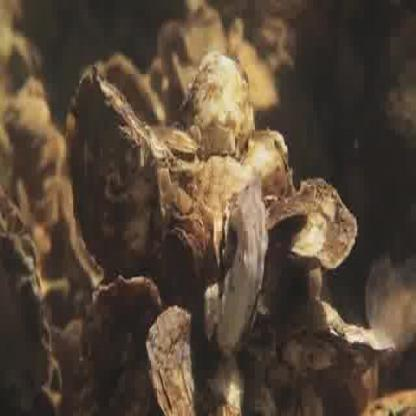Oyster- Indeterminate: (215, 180, 267, 355), (333, 321, 396, 360), (167, 227, 205, 290), (214, 206, 237, 281), (352, 360, 381, 406)
Oyster-Closed: (68, 68, 171, 273), (0, 189, 61, 416), (182, 53, 254, 159), (84, 275, 162, 371), (277, 180, 358, 270), (149, 304, 213, 416), (368, 256, 416, 349), (103, 58, 167, 124), (191, 157, 248, 224), (245, 129, 295, 205), (238, 41, 278, 113), (266, 185, 317, 238), (292, 300, 342, 334), (363, 388, 416, 416), (159, 128, 199, 152)
